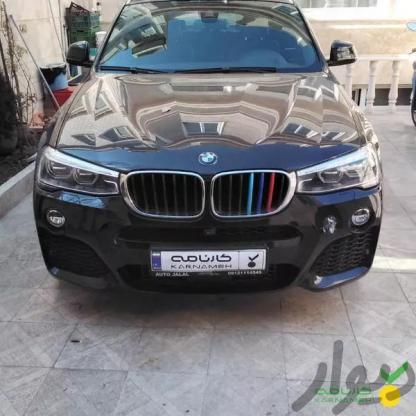Car: (0, 0, 390, 312)
